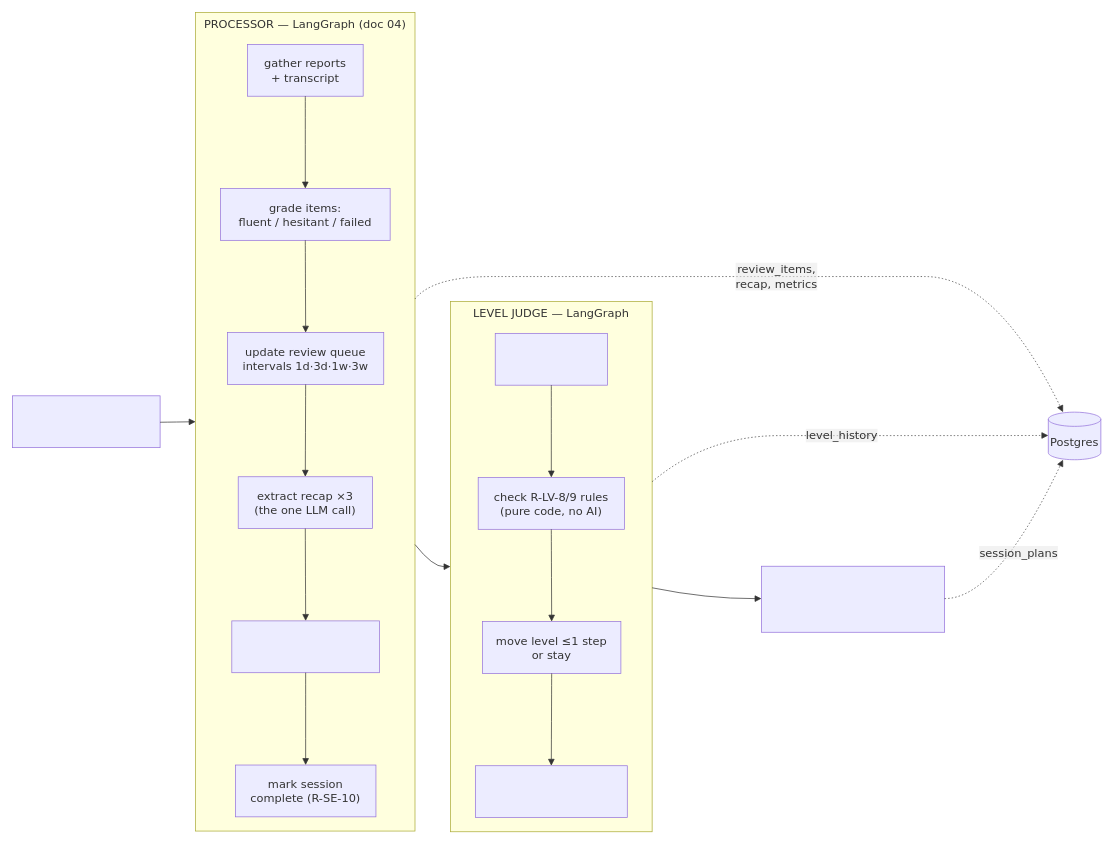
The diagram is 1113 pixels wide and 844 high, and some of its shapes have lost their labels. Each missing label, with the centre of its shape:
compute stats: stall · fluency · WPM: point (305, 646)
load last 3 sessions' stats: point (551, 359)
PLANNER (next day) reads queue + recap + level → builds tomorrow's plan: point (853, 599)
Session ends (completed or early): point (86, 421)
write Burmese notice (LLM call): point (551, 791)
